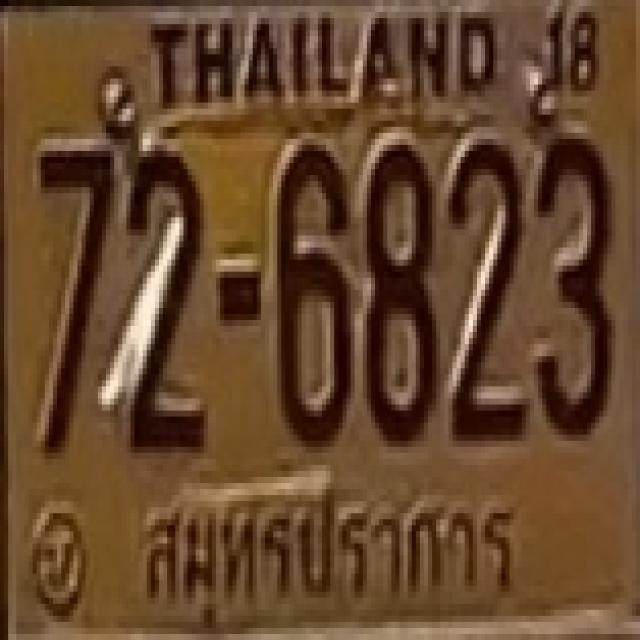2: (116, 145, 202, 441), (446, 139, 524, 435), (120, 145, 202, 417), (446, 139, 520, 416)
3: (532, 133, 609, 429)
6: (273, 139, 347, 441)
7: (37, 148, 114, 450), (39, 145, 112, 350)
8: (363, 139, 432, 441)
SPK: (137, 486, 521, 625)
